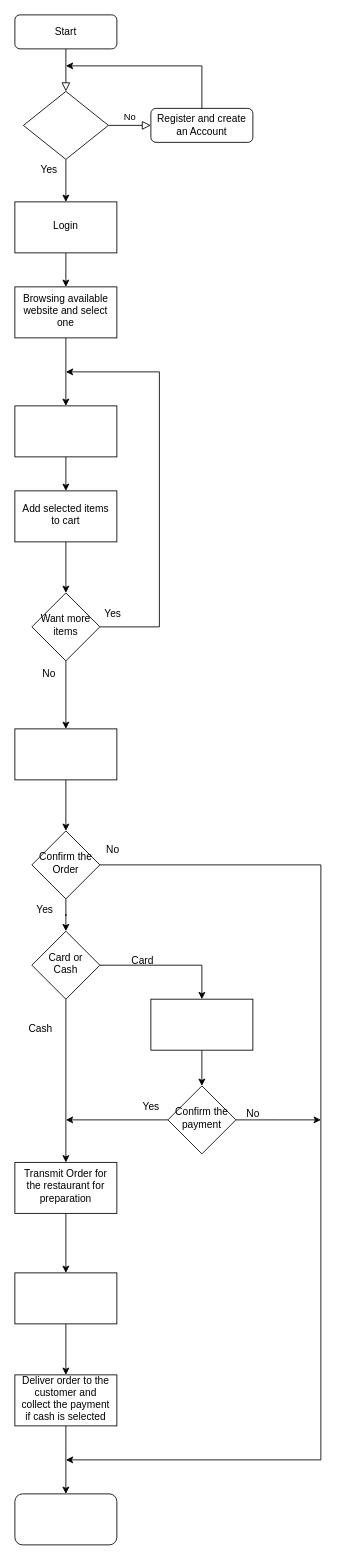
Image size: 343x1560. Some labels were removed from this diagram. Each missing label, with the centre of its shape:
"Collect card details and proceed the payment" goes at [201,1024].
"Deliver from restaurant and Track the process" goes at [65,1298].
"End" goes at [65,1519].
"Has a user Account?" goes at [65,125].
"Review and place the order" goes at [65,754].
"View Menu card and select items" goes at [65,431].
